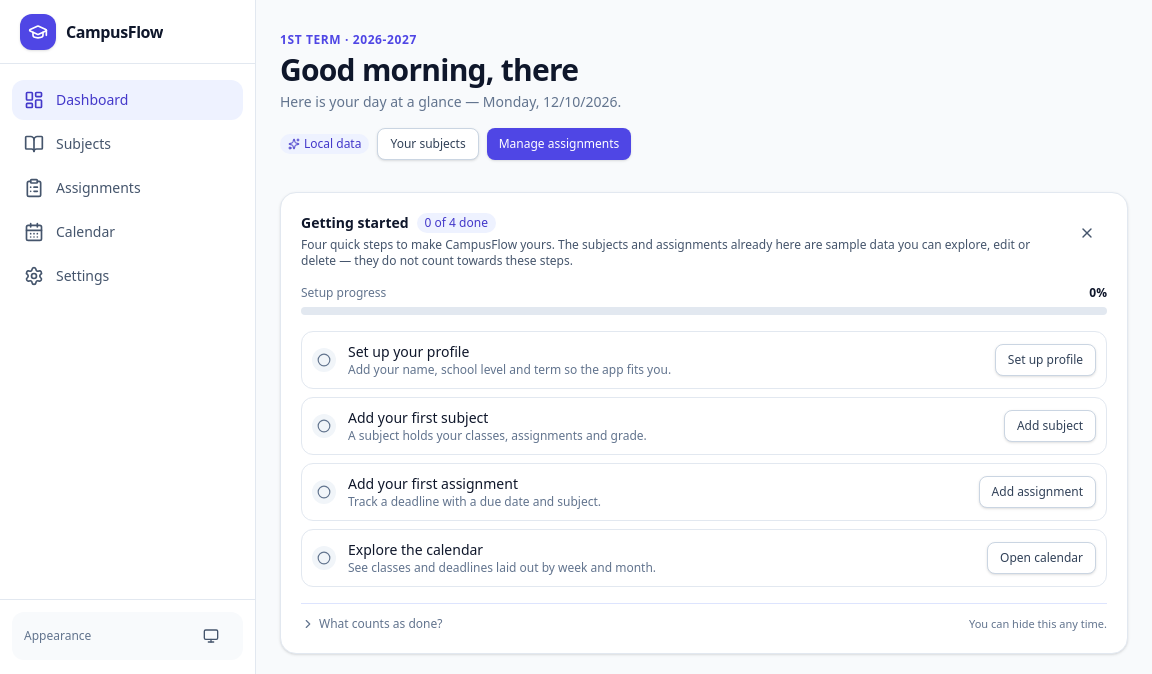
Test: dashboard onboarding › navigates each step to an existing route
Step 1. Click the link "Open calendar" → (1042, 558), box [987, 542, 1096, 574]
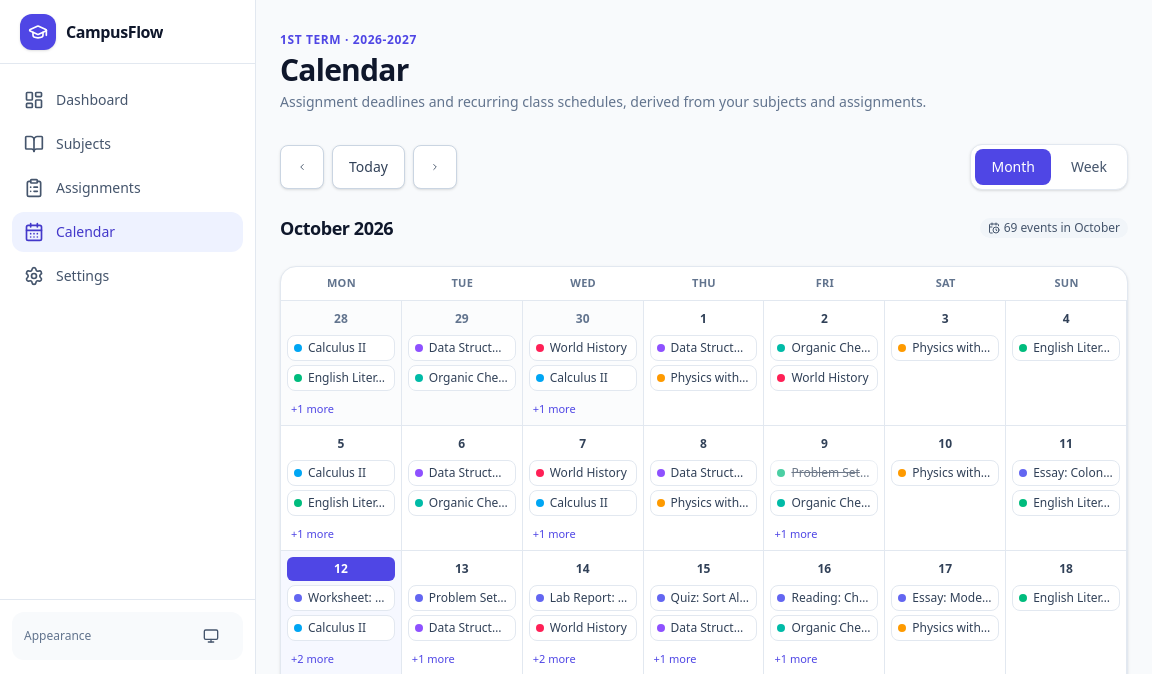
Expected: the heading "Calendar" is shown, [280, 49, 409, 90]
